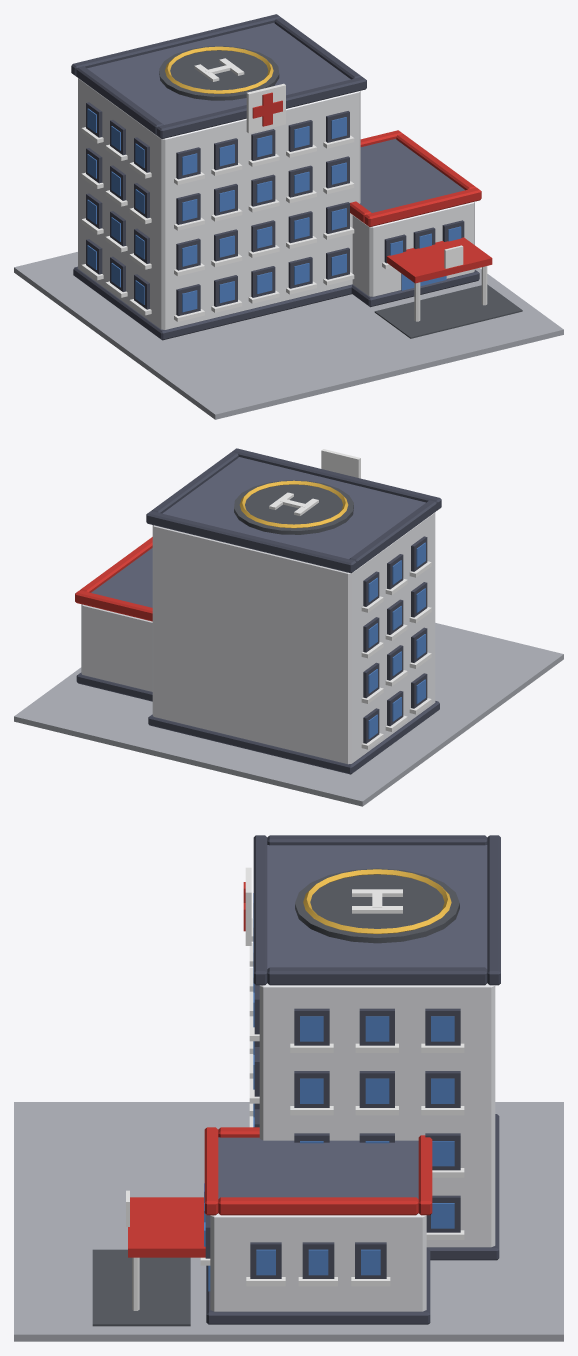
Rendered from hospital.glb.
The picture shows the model from 3 angles, top to bottom: view 1: azimuth 30°, elevation 25°; view 2: azimuth 150°, elevation 25°; view 3: azimuth 270°, elevation 25°; orthographic projection. The views are drawn at different scales.
Parts seen in each view (by area): view 1: model; view 2: model; view 3: model.
Boxes of the visible parts, x1,y1,x2,y2 form: model: (14, 14, 563, 419); model: (14, 448, 563, 806); model: (14, 835, 563, 1341).
Size of the model in its own units: 2.8 by 1.8 by 2.8.
1 material, 1 textured.
